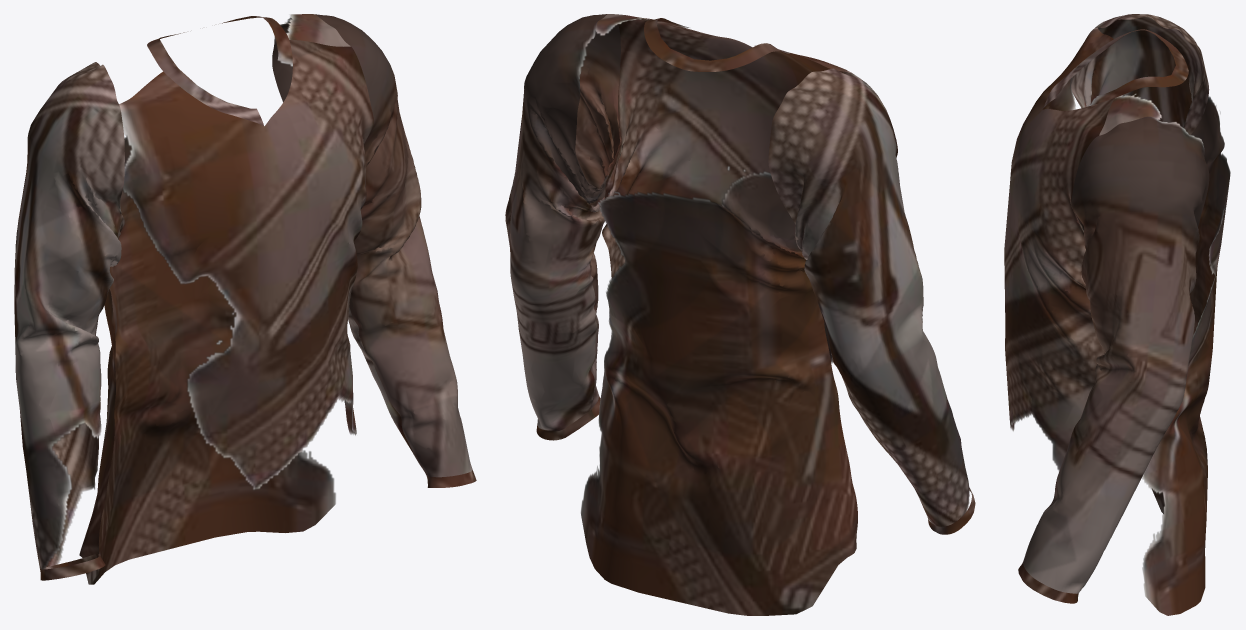
File: base_modal.glb
3 views of the same model, side by side, from view 1: azimuth 30°, elevation 25°; view 2: azimuth 150°, elevation 25°; view 3: azimuth 270°, elevation 25° (orthographic). The views are drawn at different scales.
Visible parts, largest first — view 1: ShirtNormalCollar; view 2: ShirtNormalCollar; view 3: ShirtNormalCollar.
Part boxes in pixels (x1,y1,x2,y2): ShirtNormalCollar: [14, 14, 476, 584]; ShirtNormalCollar: [505, 14, 975, 615]; ShirtNormalCollar: [1004, 14, 1230, 615].
Bounding box in the file's own units: 4.66 × 5.65 × 2.25.
Materials: 1 (1 with a texture image).
